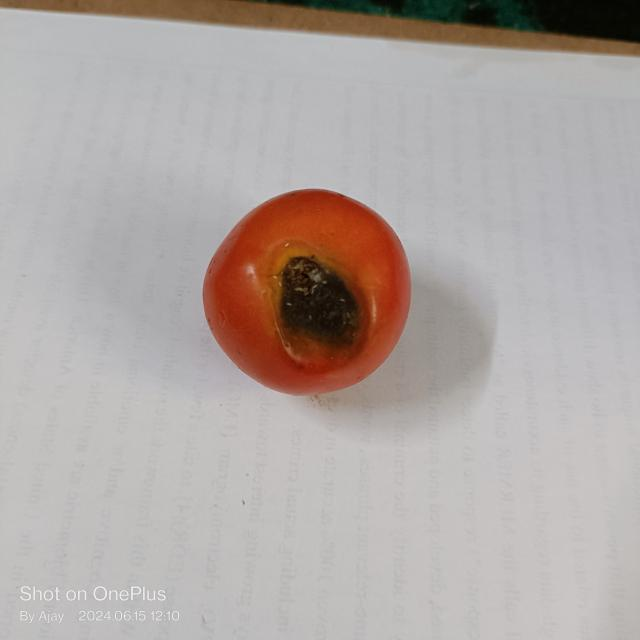Anthrocnose: (274, 250, 368, 369)
